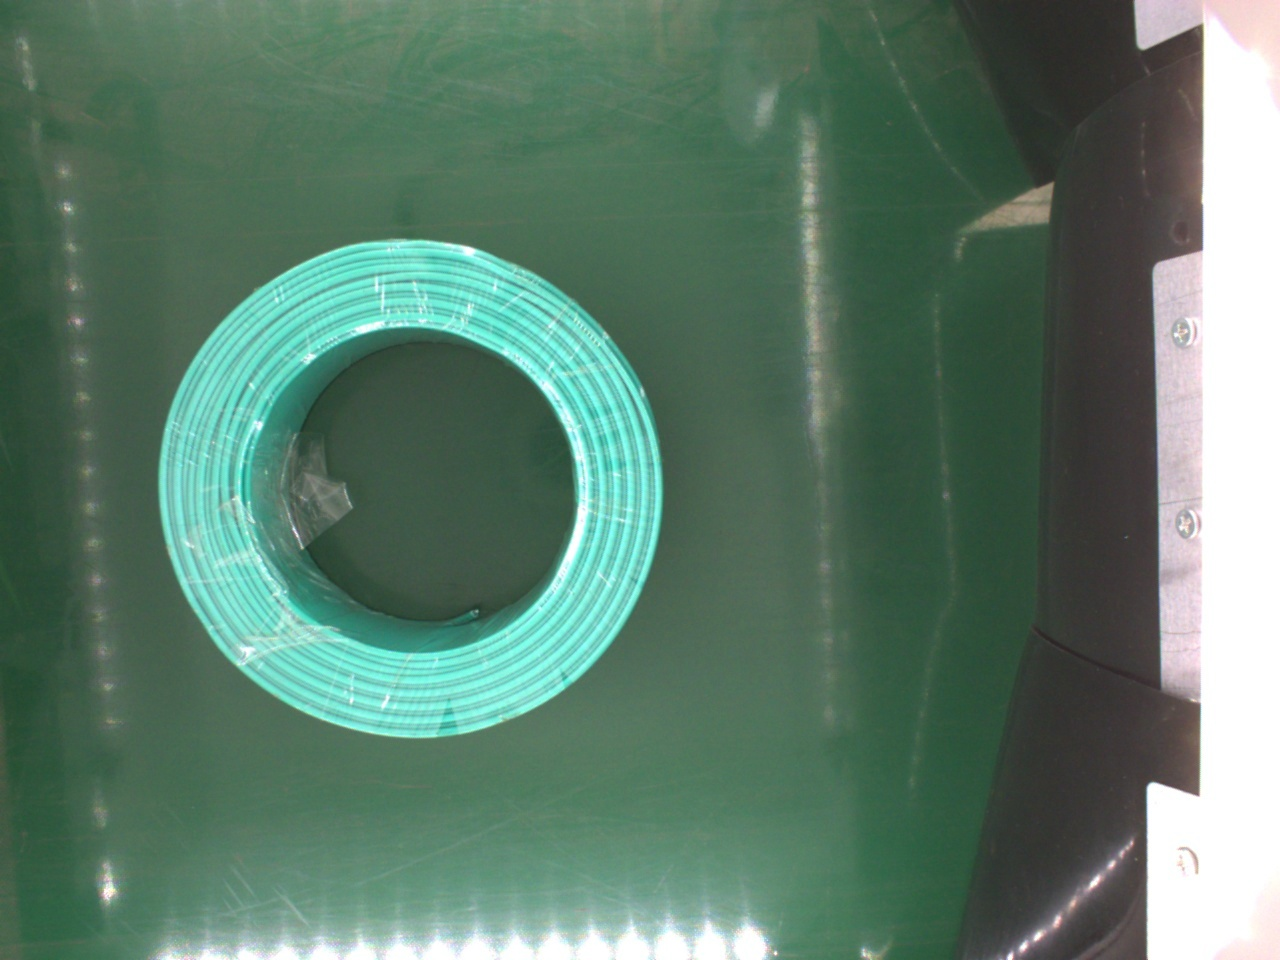green: (155, 239, 663, 739)
